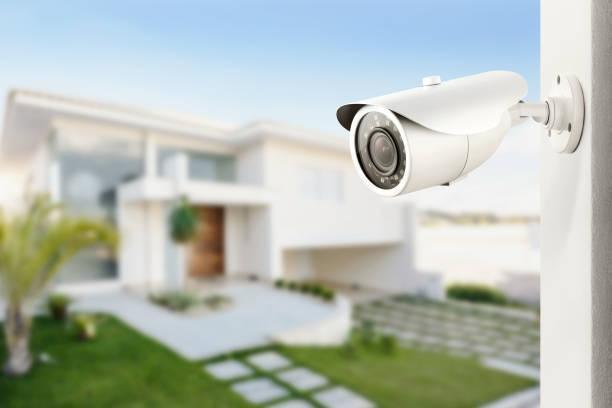camera: (326, 39, 535, 229)
